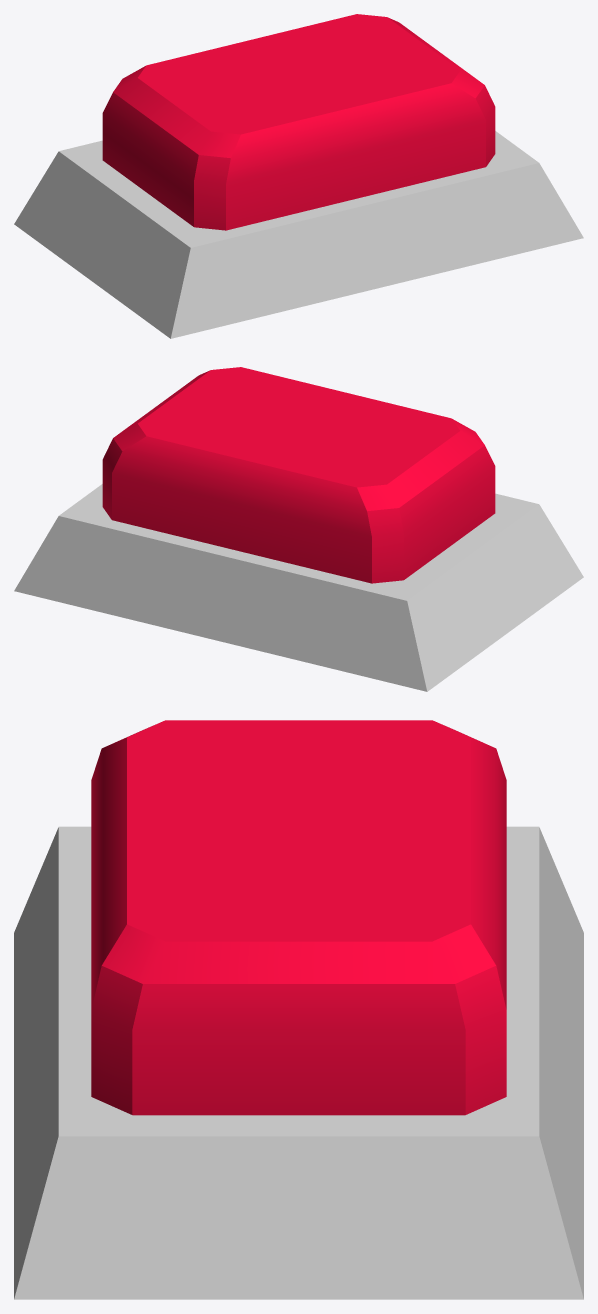
File: LED_2_Red.fbx
3 renders of one model, top to bottom at view 1: azimuth 30°, elevation 25°; view 2: azimuth 150°, elevation 25°; view 3: azimuth 270°, elevation 25°, orthographic. The views are drawn at different scales.
Visible parts, largest first — view 1: LED_2_Red; view 2: LED_2_Red; view 3: LED_2_Red.
Part boxes in pixels (x1=…): LED_2_Red: x1=14, y1=14, x2=583, y2=338; LED_2_Red: x1=14, y1=367, x2=583, y2=691; LED_2_Red: x1=14, y1=720, x2=583, y2=1299.
Bounding box in the file's own units: 33.04 × 11.99 × 21.7.
